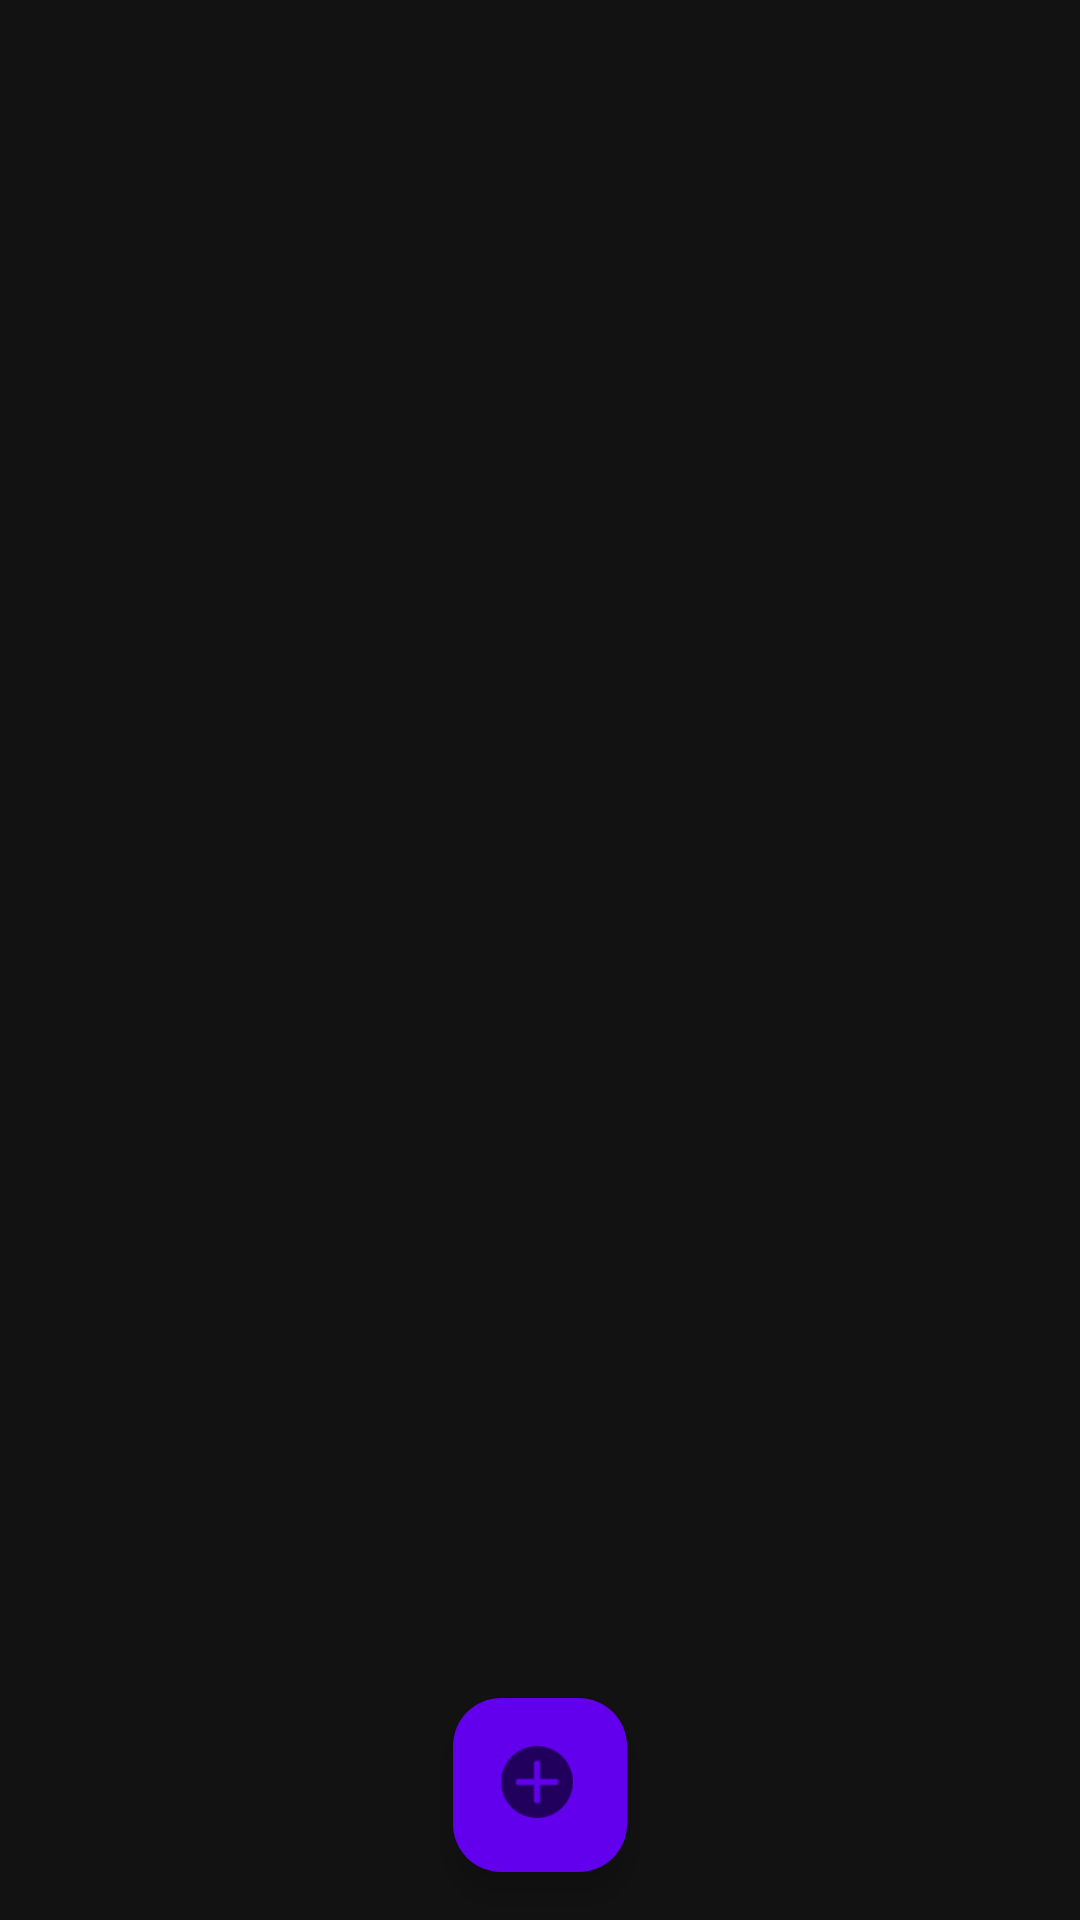

Icons on this 1080x1920 Android screen, each with its box as (x1, y1, x2, y2):
Add: (453, 1698, 627, 1872)
